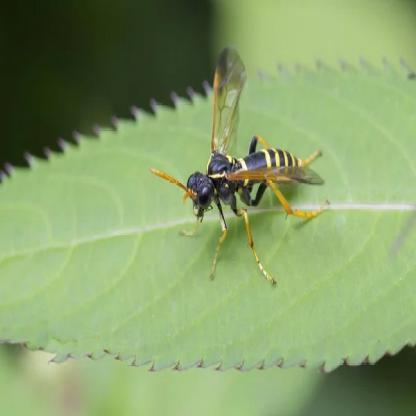sawfly: (150, 46, 329, 287)
